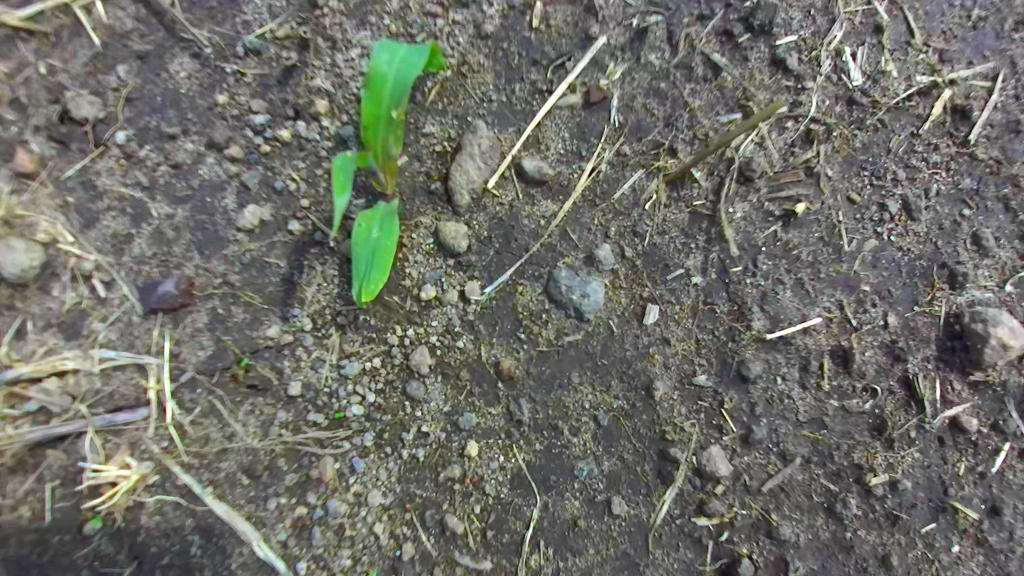BroWeed: (121, 454, 157, 477), (78, 510, 104, 539), (726, 533, 751, 562), (58, 290, 84, 313), (690, 514, 728, 528), (721, 504, 747, 521), (864, 470, 890, 487), (464, 279, 483, 300), (211, 92, 233, 110), (237, 352, 257, 369), (738, 558, 755, 576), (715, 528, 732, 545), (276, 492, 294, 508), (873, 221, 890, 236), (283, 320, 302, 333), (792, 200, 808, 215), (36, 59, 49, 76), (233, 368, 245, 380), (333, 409, 347, 419), (368, 567, 377, 576), (890, 231, 897, 242), (290, 495, 299, 503), (882, 230, 888, 240), (887, 222, 896, 228)
Maize: (297, 21, 453, 310)
NarWeed: (661, 93, 787, 185)
